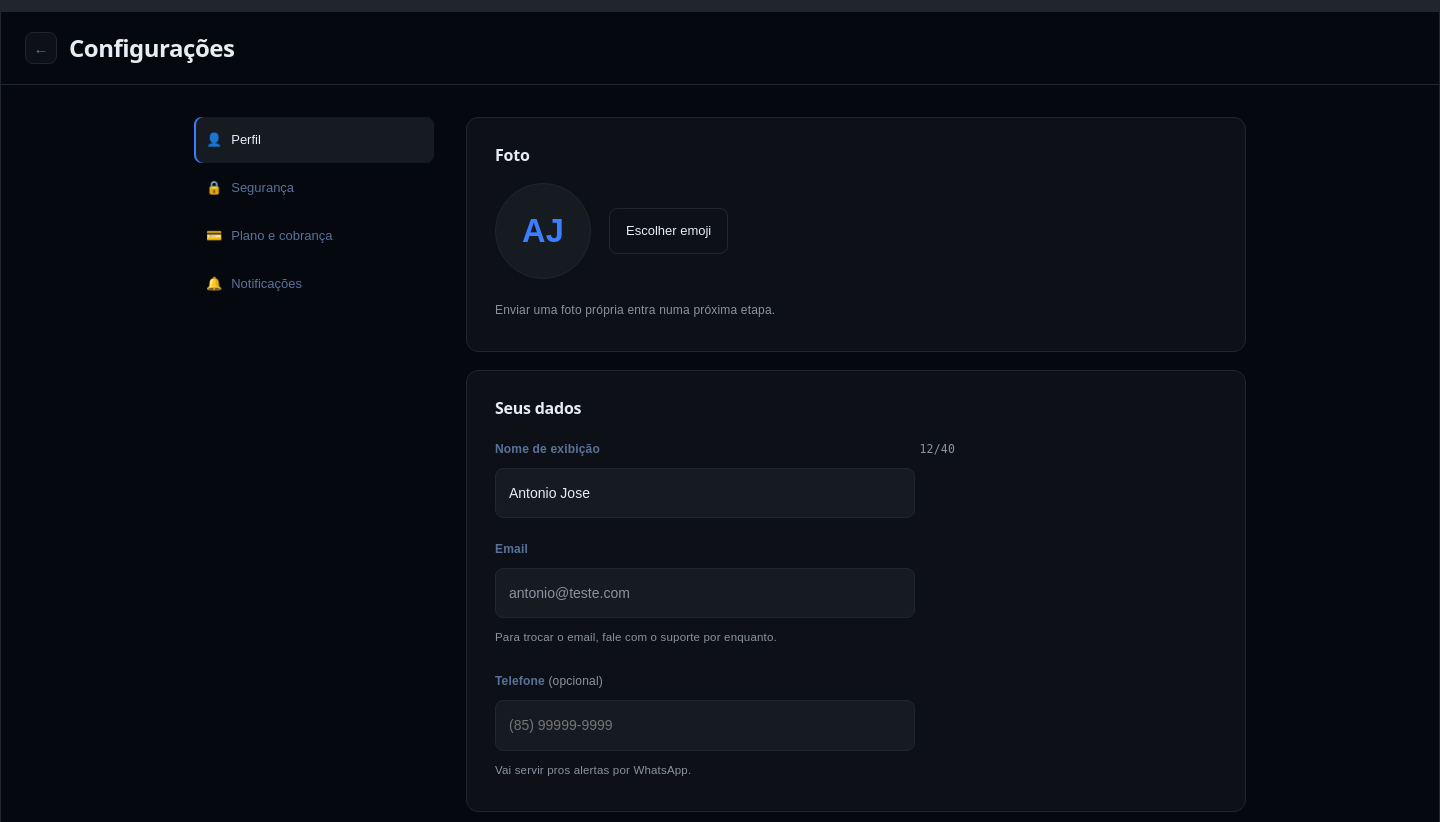
Scenario: Configurações — logado › o botão de salvar nasce desligado e acende ao mudar algo
Type " Morais" into the field with placeholder "Como você quer ser chamado" at [705, 493], box [495,468,915,518]
(page scrolled)
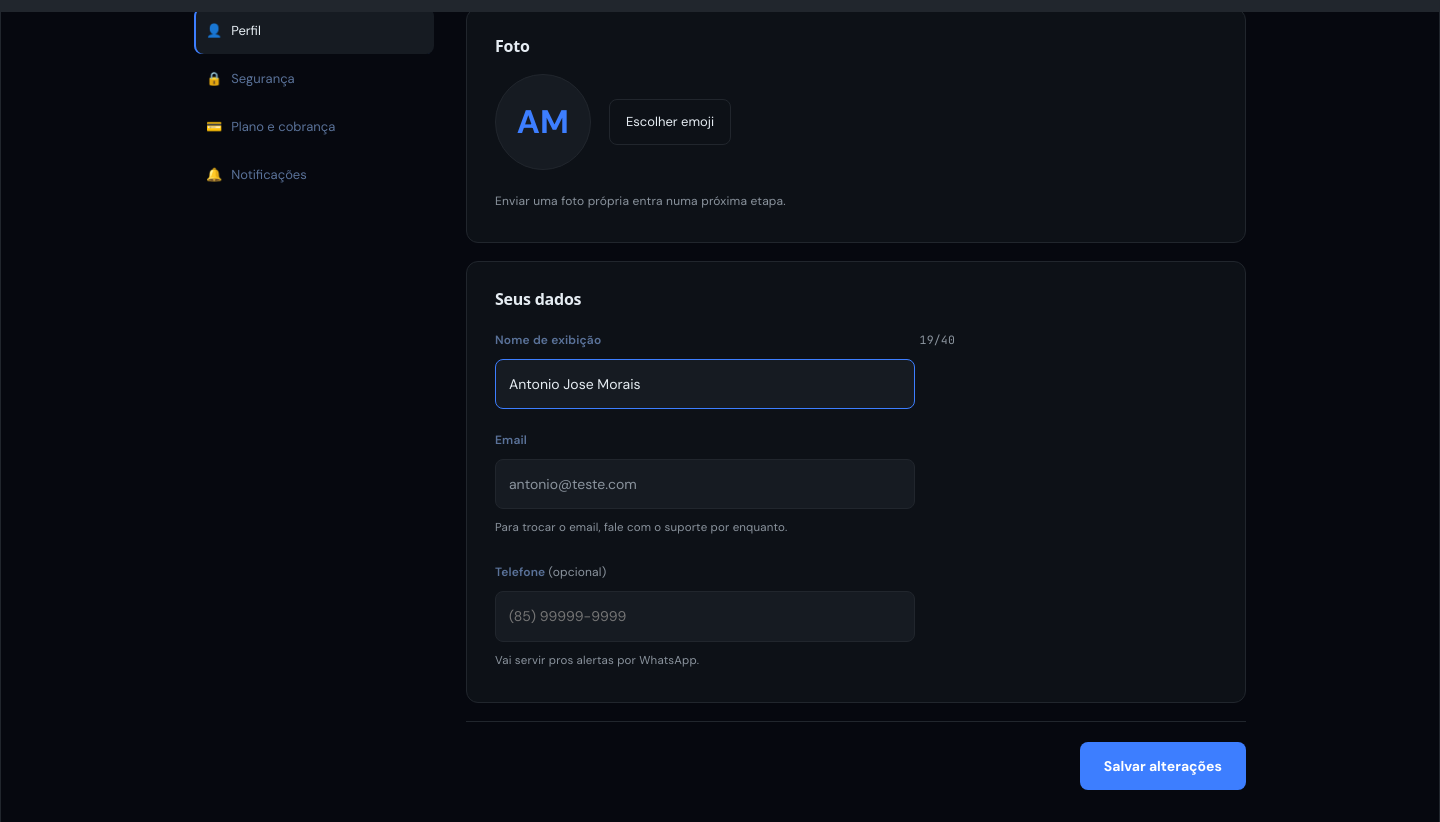
Result: the button "Salvar alterações" is enabled at [1080,742,1246,790]
